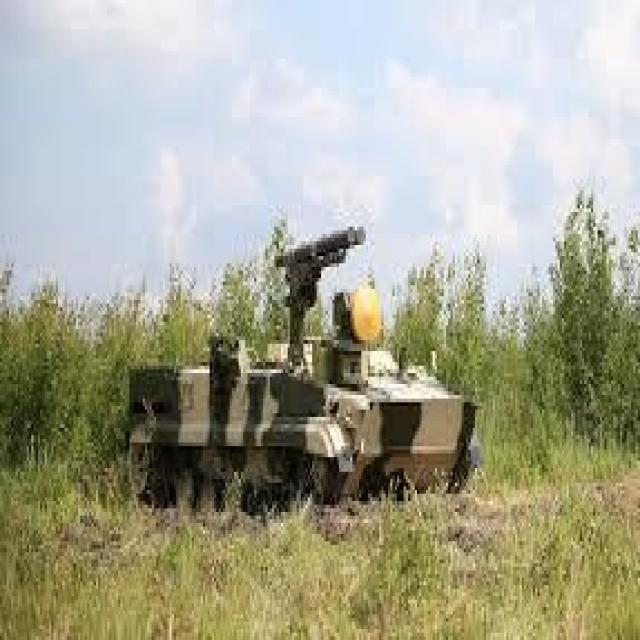Tanks: (123, 329, 484, 508)
